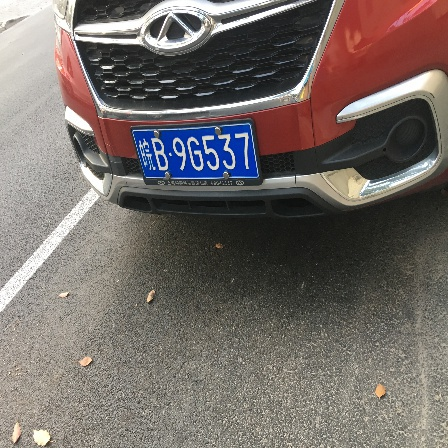plate: (126, 116, 268, 190)
